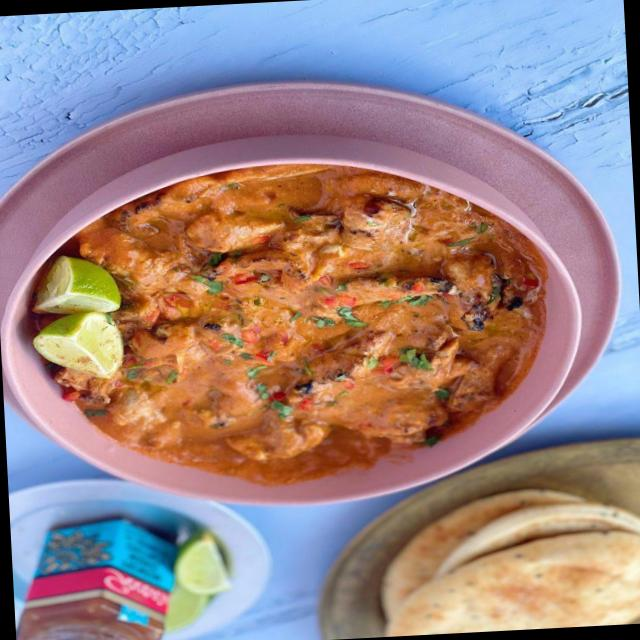chicken: (67, 153, 530, 478)
